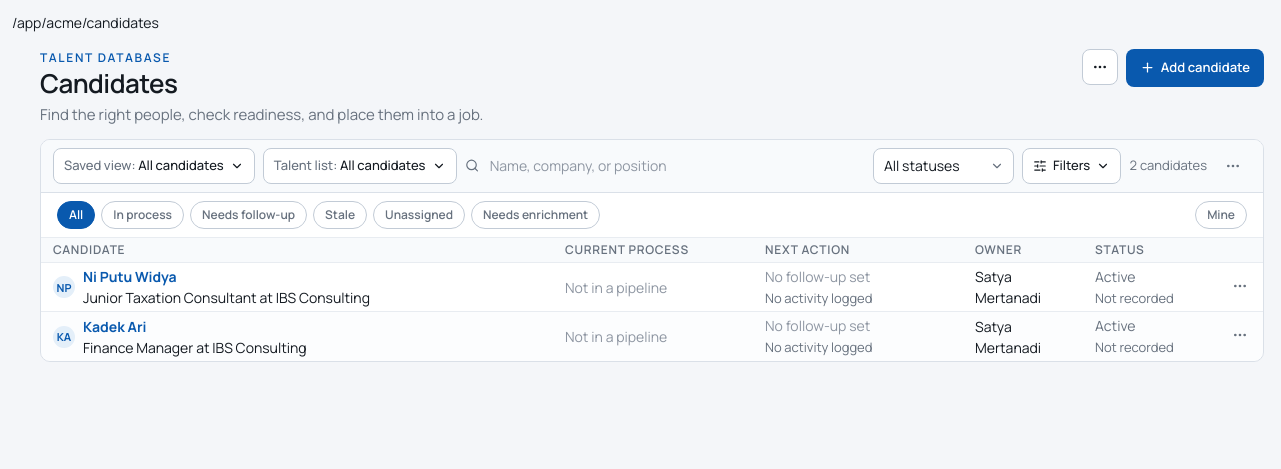
Test: CandidatesPage Quick View › leaves bulk selection untouched
The width and height of the screenshot is (1281, 469).
Click the button named "More candidate actions". click: (1100, 67)
box: [1082, 49, 1118, 85]
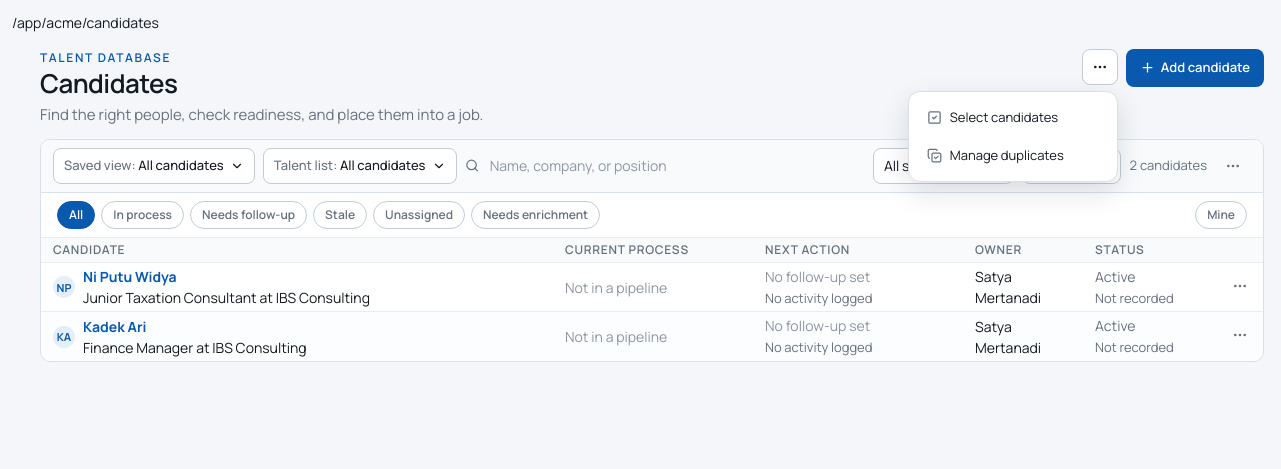
Click the menu item "Select candidates". click: (1013, 118)
box: [917, 100, 1109, 136]
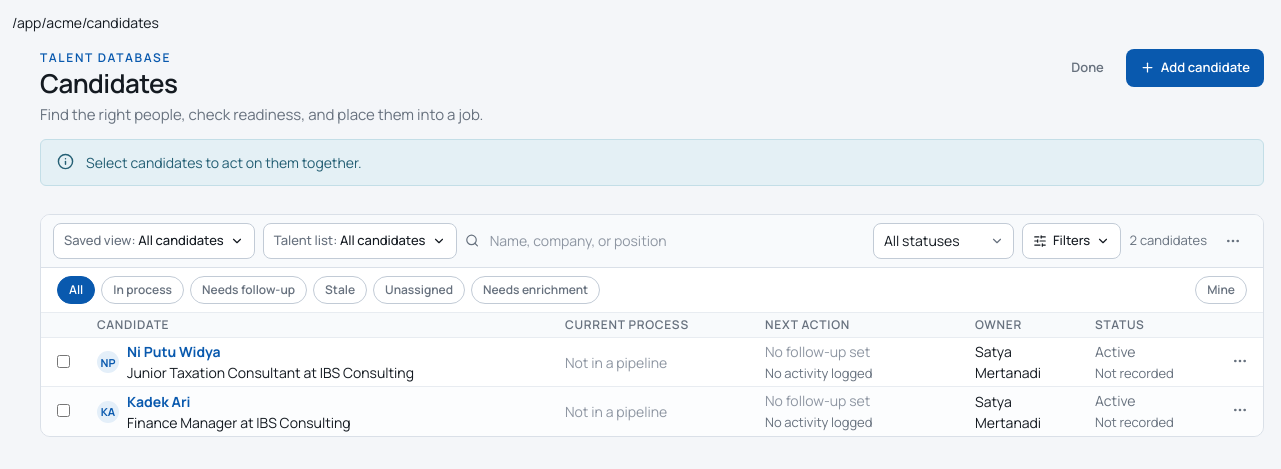
Click the checkbox named "Select Ni Putu Widya". click: (64, 361)
box: [57, 355, 70, 368]
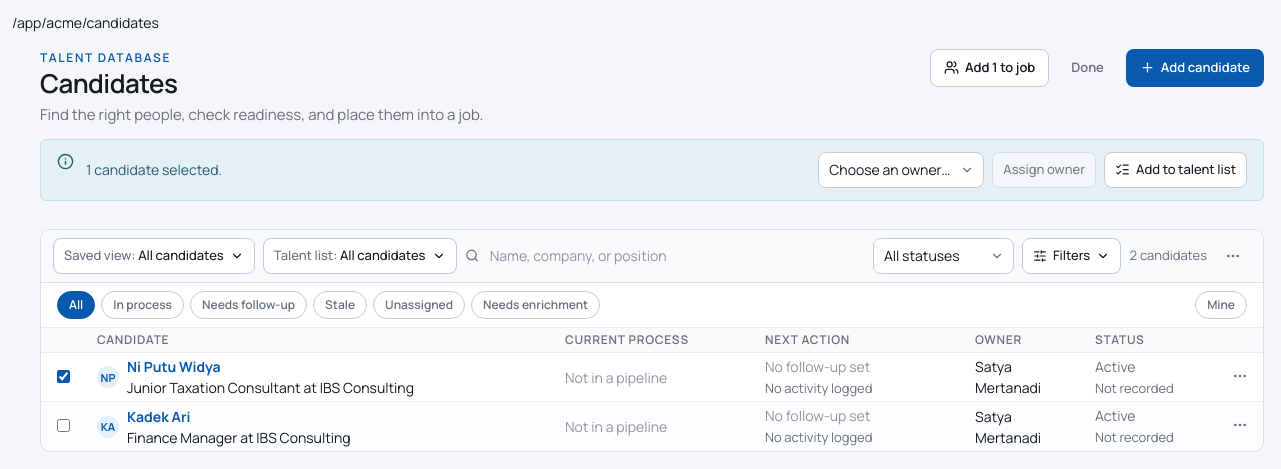
Expected: the text "1 candidate selected." is shown, [86, 159, 222, 180]
